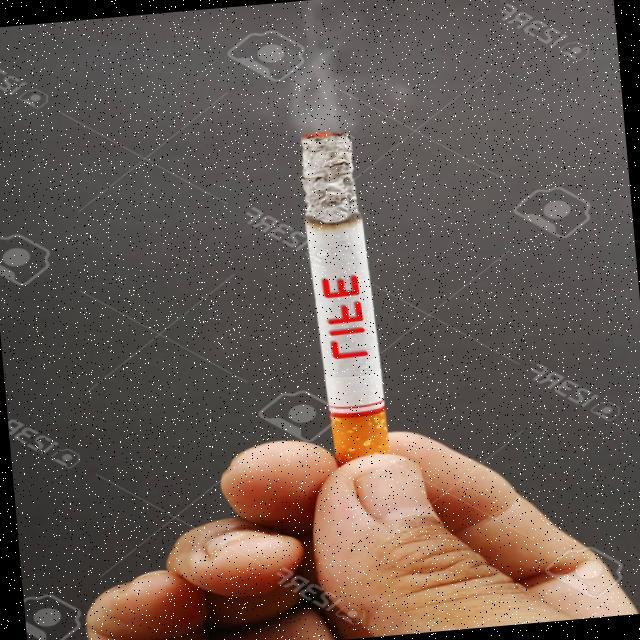cigarette: (304, 124, 390, 467)
